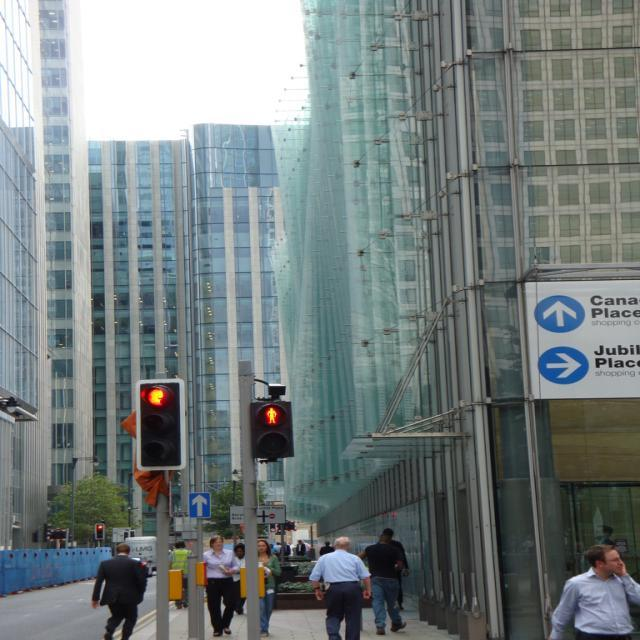traffic light: (139, 382, 181, 466), (254, 402, 295, 458)
